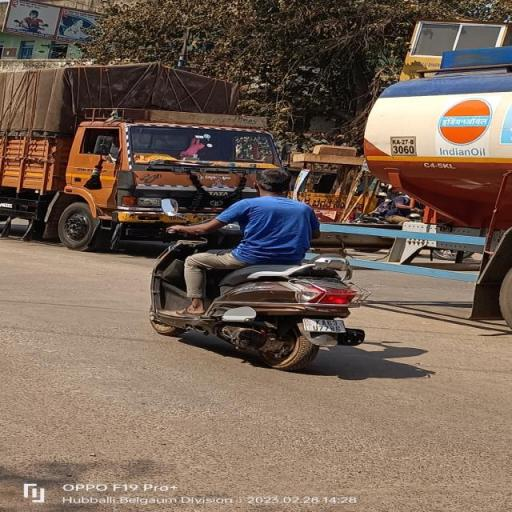bike: (146, 167, 370, 371)
numberplate: (303, 318, 346, 332)
withouthelmet: (258, 170, 292, 193)
